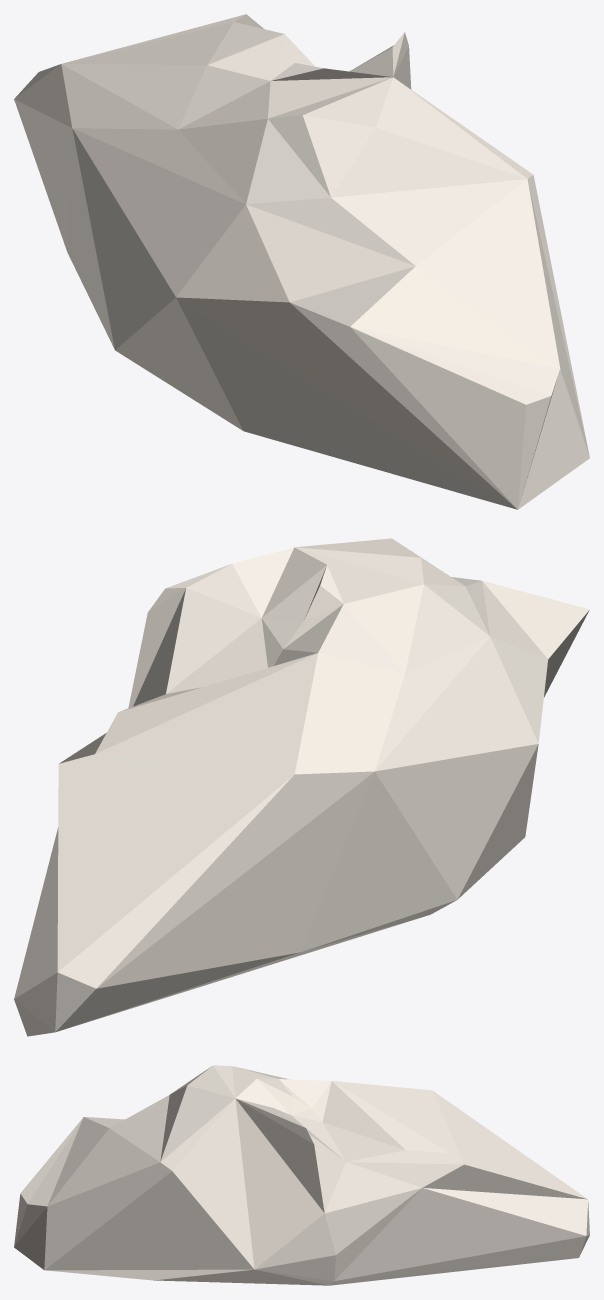
File: Cloud 2.fbx
3 views of the same model, one above another, from view 1: azimuth 30°, elevation 25°; view 2: azimuth 150°, elevation 25°; view 3: azimuth 270°, elevation 25° (orthographic). The views are drawn at different scales.
Parts seen in each view (by area): view 1: Cloud_2; view 2: Cloud_2; view 3: Cloud_2.
Boxes of the visible parts, <box> form: Cloud_2: <box>14,14,589,509</box>; Cloud_2: <box>14,538,589,1036</box>; Cloud_2: <box>14,1065,589,1285</box>.
Bounding box in the file's own units: 189 × 152 × 455.
1 material, 1 textured.
